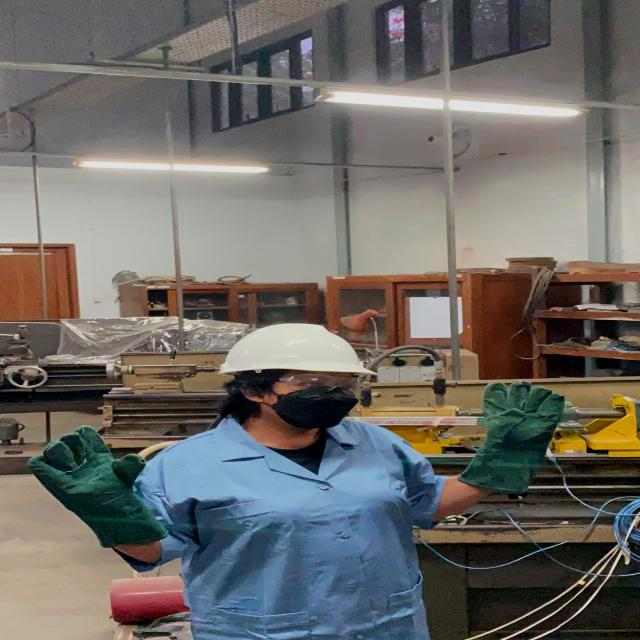face_mask: (267, 370, 370, 428)
glasses: (267, 372, 373, 396)
hand_glove: (23, 424, 154, 509), (467, 376, 574, 456)
head_helmet: (215, 322, 377, 377)
person: (15, 316, 588, 640)
